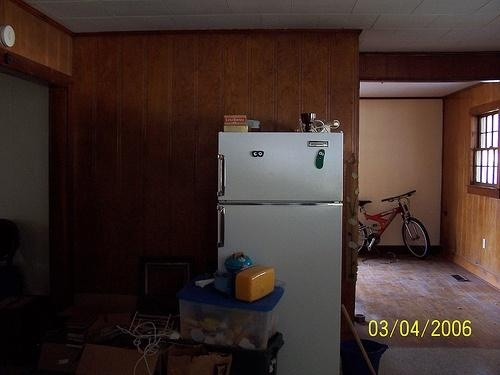bicycle: (357, 187, 440, 262)
